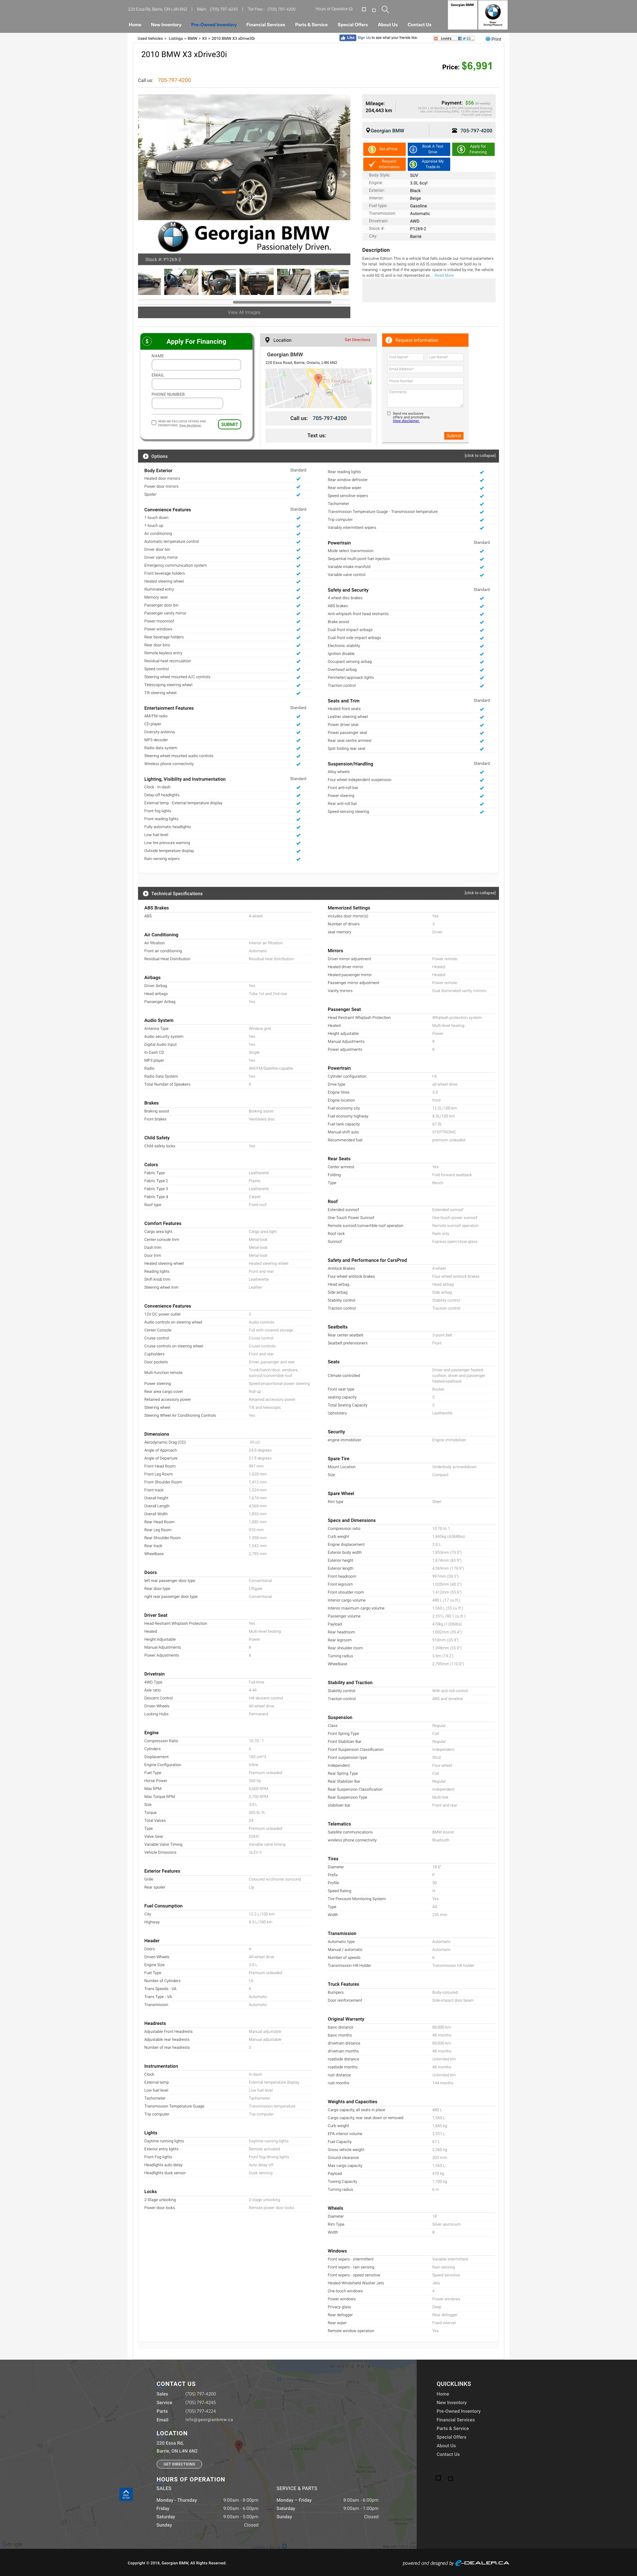car: (337, 168, 351, 181)
